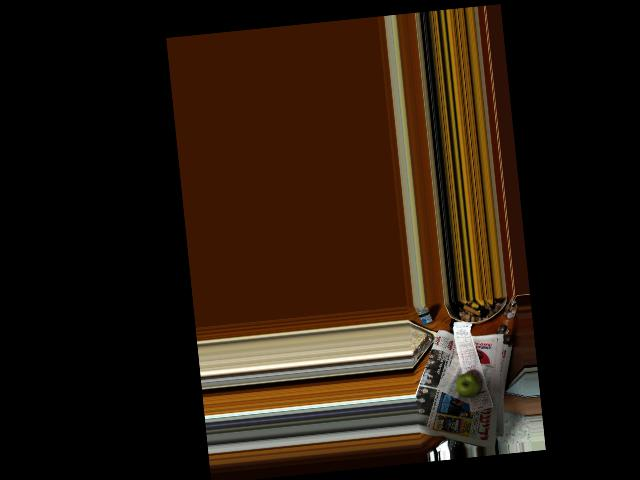apple: (452, 370, 482, 402)
